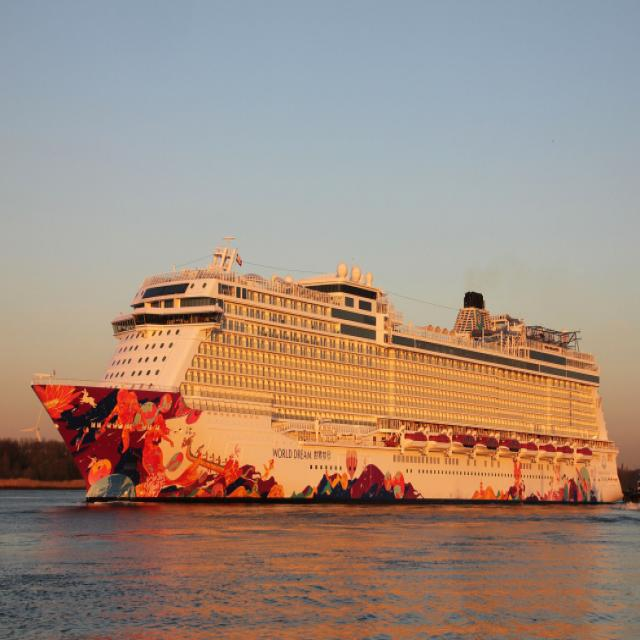cruises: (13, 226, 633, 512)
